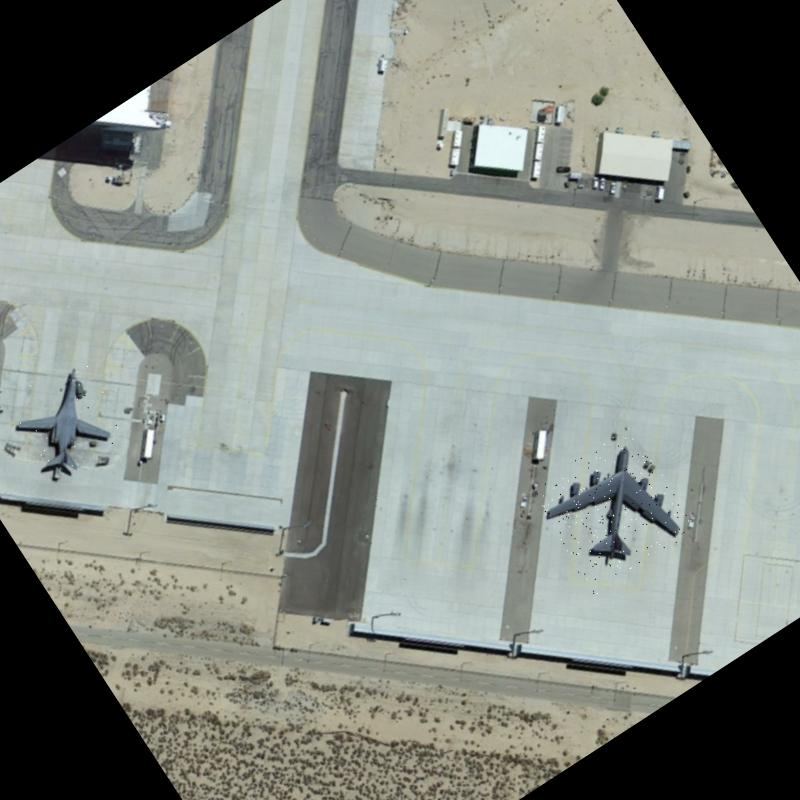A10: (0, 352, 134, 492)
A8: (526, 424, 698, 596)
